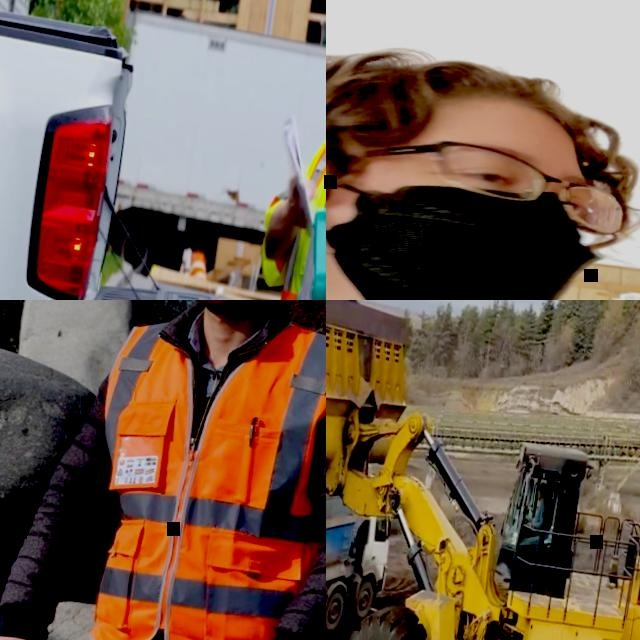Mask: (326, 154, 608, 300)
NO-Hardhat: (326, 15, 638, 181), (538, 483, 546, 492)
NO-Mask: (537, 496, 541, 503)
NO-Safety Vest: (533, 500, 546, 526)
Person: (0, 300, 326, 640), (326, 0, 640, 300), (217, 0, 326, 300), (518, 481, 548, 545)
Safety Vest: (77, 301, 326, 640), (231, 114, 326, 300)
machinery: (326, 300, 640, 640), (326, 441, 400, 640)
vehicle: (0, 0, 279, 300)
